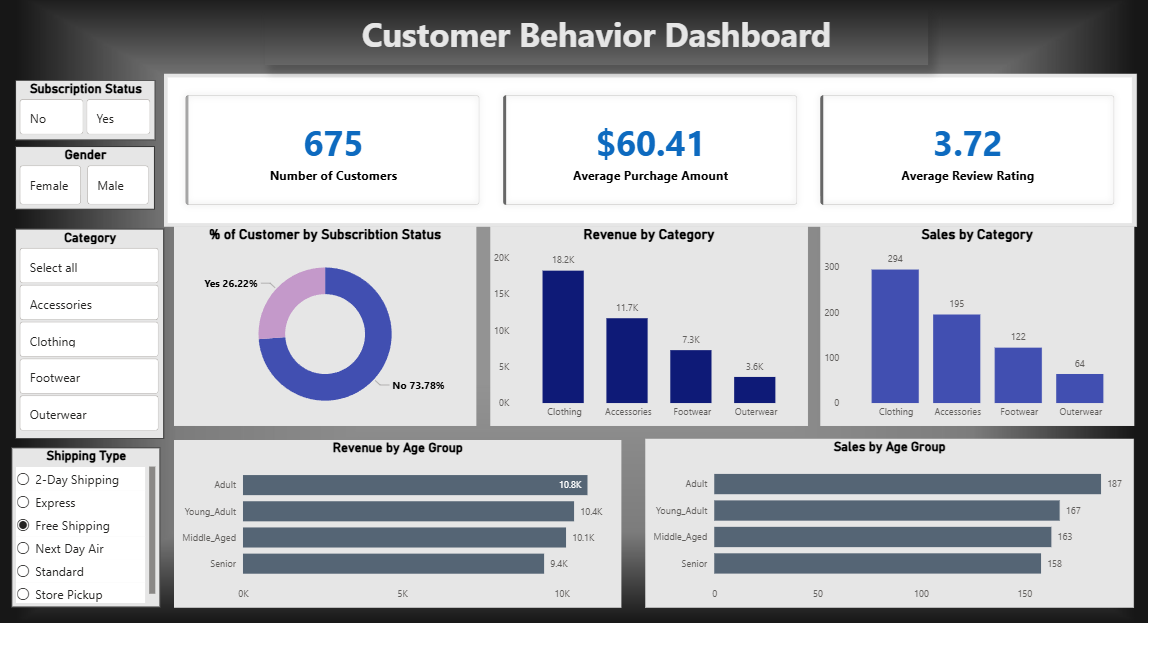

Layout of this report page (visuals, bound fields, positions):
{"tool":"powerbi","page":{"name":"Page 1","canvas":[1500,820],"ordinal":0},"visuals":[{"type":"cardVisual","fields":{"Data":["public customer.Number of Customers","public customer.Average Purchage Amount","public customer.Average Review Rating"]},"box":[250.6,110.3,1249.4,172.4],"z":0},{"type":"shape","box":[0,0,1500,90.8],"z":1},{"type":"textbox","box":[0,0,1487.4,90.8],"z":2},{"type":"shape","box":[263.2,263.2,416.1,278.2],"z":3},{"type":"donutChart","title":"% of Customer by  Subscribtion Status","fields":{"Category":["public customer.subscription_status"],"Y":["CountNonNull(public customer.customer_id)"]},"box":[285.1,281.6,372.4,229.9],"z":4},{"type":"shape","box":[680.5,263.2,403.4,278.2],"z":6},{"type":"shape","box":[1083.9,257.5,393.1,278.2],"z":7},{"type":"clusteredColumnChart","title":"Revenue by Category","fields":{"Y":["Sum(public customer.purchase_amount)"],"Category":["public customer.category"]},"box":[690.8,281.6,369,248.3],"z":8},{"type":"clusteredColumnChart","title":"Sales by Category","fields":{"Y":["CountNonNull(public customer.customer_id)"],"Category":["public customer.category"]},"box":[1095.4,278.2,369,248.3],"z":9},{"type":"shape","box":[0,90.8,250.6,716.1],"z":11},{"type":"advancedSlicerVisual","title":"Subscription Status","fields":{"Values":["public customer.subscription_status"]},"box":[25.3,110.3,171.3,78.2],"z":12},{"type":"advancedSlicerVisual","title":"Gender","fields":{"Values":["public customer.gender"]},"box":[20.7,196.6,181.6,82.8],"z":13},{"type":"advancedSlicerVisual","title":"Category","fields":{"Values":["public customer.category"]},"box":[20.7,288.5,181.6,256.3],"z":14},{"type":"listSlicer","title":"Shipping Type","fields":{"Values":["public customer.shipping_type"]},"box":[20.7,578.2,181.6,208],"z":15},{"type":"clusteredBarChart","title":"Revenue by Age Group","fields":{"Y":["Sum(public customer.purchase_amount)"],"Category":["public customer.age_group"]},"box":[285.1,567.8,543.7,218.4],"z":16},{"type":"shape","box":[875.9,564.4,579.3,242.5],"z":18},{"type":"clusteredBarChart","title":"Sales by Age Group","fields":{"Y":["CountNonNull(public customer.customer_id)"],"Category":["public customer.age_group"]},"box":[887.4,578.2,555.2,218.4],"z":19},{"type":"shape","box":[263.2,557.5,595.4,249.4],"z":21}]}

Visuals, with their boxes in screenshot pixels (x1, y1, x2, y2), scaled from the page's 1500x820 canvas onto the 1152x648 screenshot:
cardVisual - public customer.Number of Customers x public customer.Average Purchage Amount: <region>192, 87, 1151, 223</region>
shape: <region>0, 0, 1151, 72</region>
textbox: <region>0, 0, 1142, 72</region>
shape: <region>202, 208, 522, 428</region>
"% of Customer by  Subscribtion Status" donutChart: <region>219, 223, 505, 404</region>
shape: <region>523, 208, 832, 428</region>
shape: <region>832, 203, 1134, 423</region>
"Revenue by Category" clusteredColumnChart: <region>531, 223, 814, 419</region>
"Sales by Category" clusteredColumnChart: <region>841, 220, 1125, 416</region>
shape: <region>0, 72, 192, 638</region>
"Subscription Status" advancedSlicerVisual: <region>19, 87, 151, 149</region>
"Gender" advancedSlicerVisual: <region>16, 155, 155, 221</region>
"Category" advancedSlicerVisual: <region>16, 228, 155, 431</region>
"Shipping Type" listSlicer: <region>16, 457, 155, 621</region>
"Revenue by Age Group" clusteredBarChart: <region>219, 449, 637, 621</region>
shape: <region>673, 446, 1118, 638</region>
"Sales by Age Group" clusteredBarChart: <region>682, 457, 1108, 630</region>
shape: <region>202, 441, 659, 638</region>
